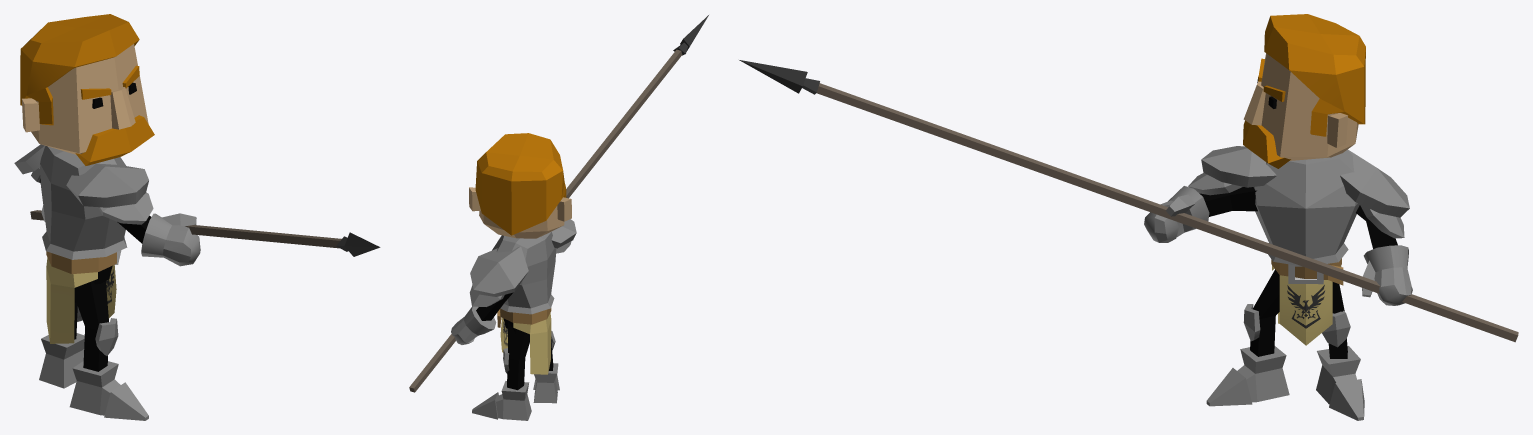
3 renders of one model, left to right at view 1: azimuth 30°, elevation 25°; view 2: azimuth 150°, elevation 25°; view 3: azimuth 270°, elevation 25°, orthographic. The views are drawn at different scales.
Parts seen in each view (by area): view 1: Soldier_56; view 2: Soldier_56; view 3: Soldier_56.
Boxes of the visible parts, x1,y1,x2,y2 form: Soldier_56: (14, 14, 380, 420); Soldier_56: (409, 15, 708, 420); Soldier_56: (739, 14, 1518, 420).
Bounding box in the file's own units: 0.5995 × 1.69 × 3.17.
Materials: 9 (1 with a texture image).
